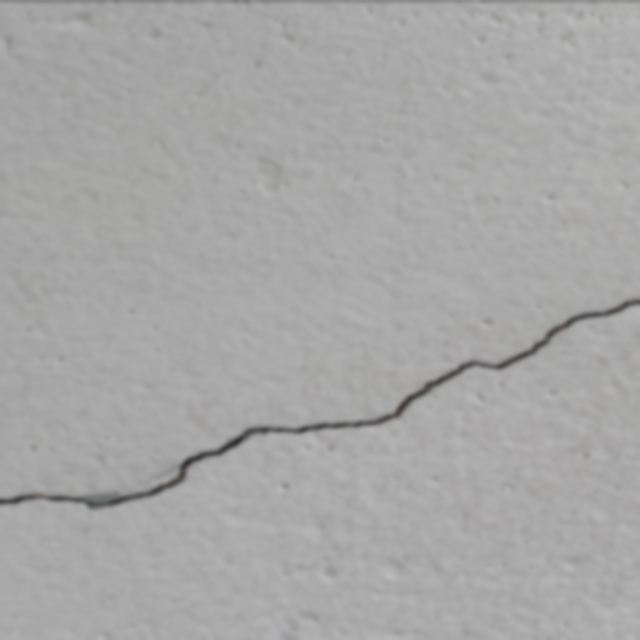SurfaceCrack: (0, 254, 639, 546)
